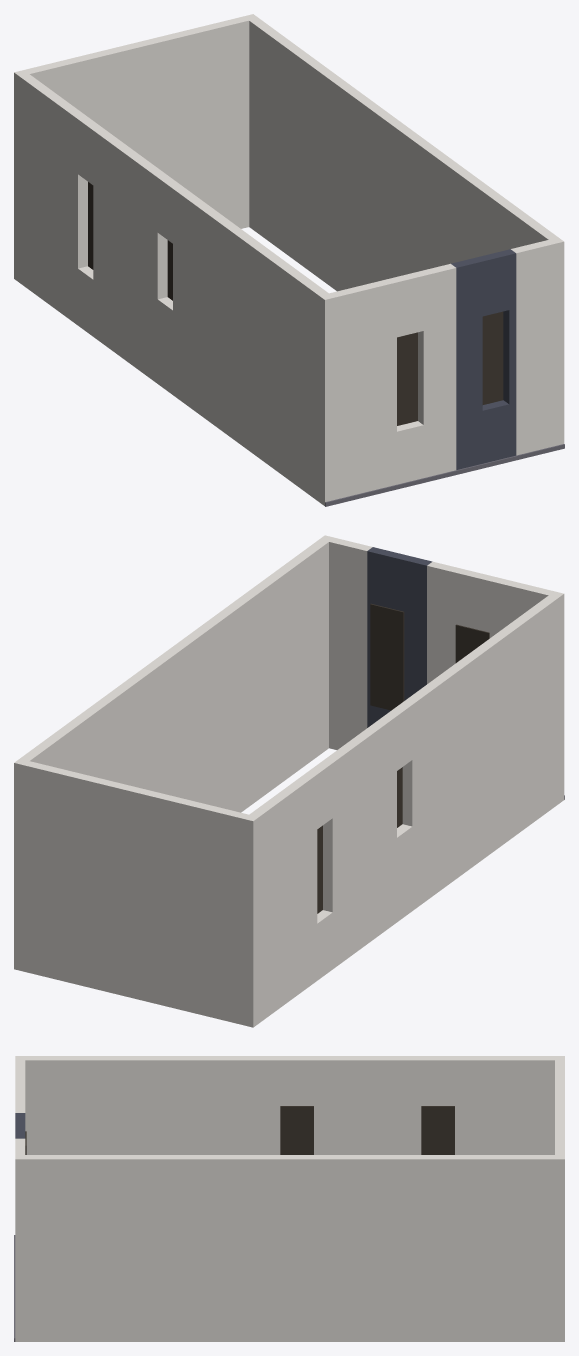
The model's file is SM_Floor_NarrowUpperScatterLowEndL_White_364_01.gltf.
3 views of the same model, one above another, from view 1: azimuth 30°, elevation 25°; view 2: azimuth 150°, elevation 25°; view 3: azimuth 270°, elevation 25° (orthographic). The views are drawn at different scales.
Parts seen in each view (by area): view 1: SM_Floor_NarrowUpperScatterLowEndL_White_364_01; view 2: SM_Floor_NarrowUpperScatterLowEndL_White_364_01; view 3: SM_Floor_NarrowUpperScatterLowEndL_White_364_01.
Boxes of the visible parts, box(x1,y1,x2,y2) form: SM_Floor_NarrowUpperScatterLowEndL_White_364_01: box(14, 14, 564, 506); SM_Floor_NarrowUpperScatterLowEndL_White_364_01: box(14, 535, 564, 1027); SM_Floor_NarrowUpperScatterLowEndL_White_364_01: box(14, 1056, 564, 1341).
Bounding box in the file's own units: 3.64 × 3 × 8.21.
1 material, 1 textured.
